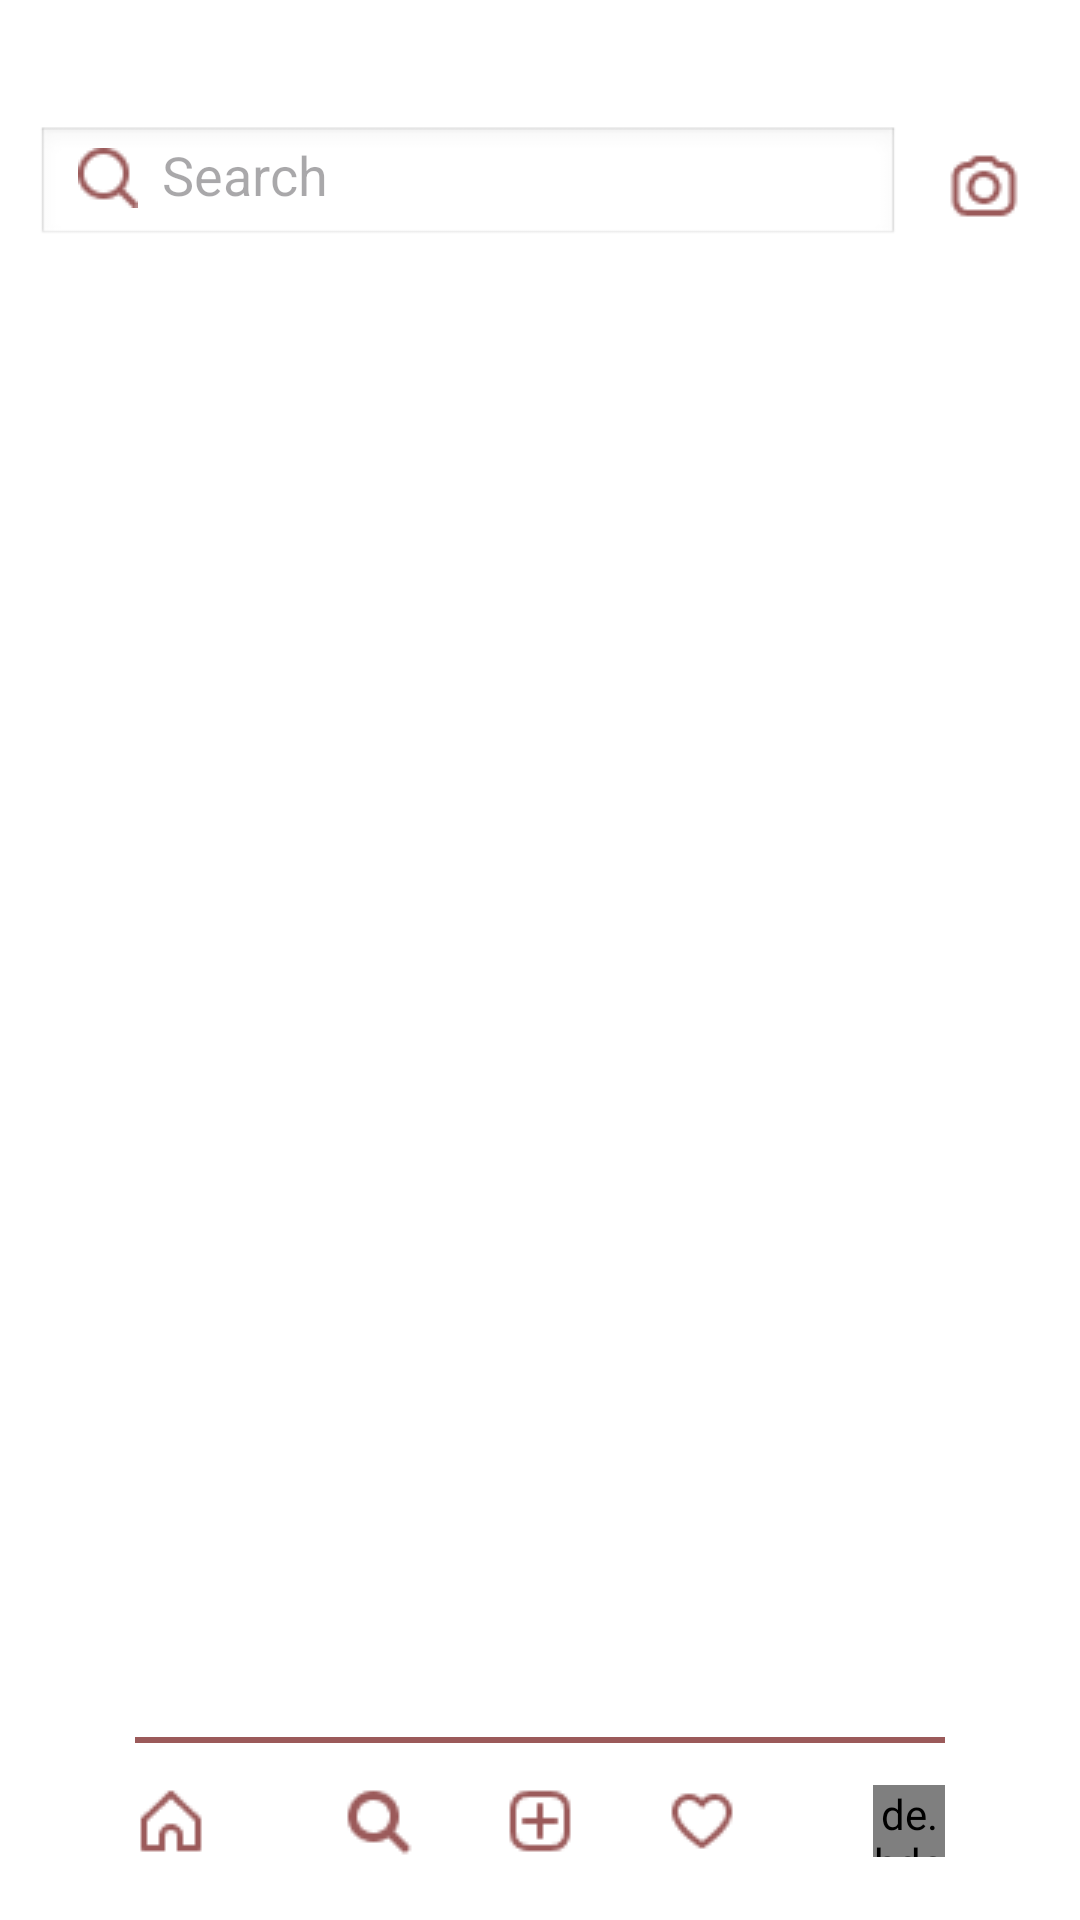

Where to tap for icons on this 1080 × 1920 app screen, as [x,y]:
camera: [984,186]
create: [540,1821]
home: [171,1821]
like: [702,1821]
